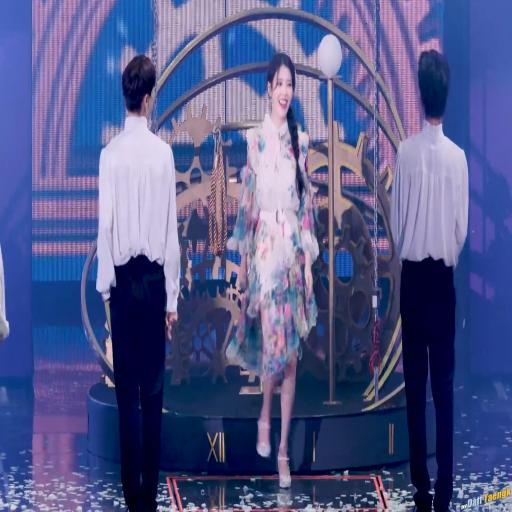IU: (267, 53, 296, 119)
